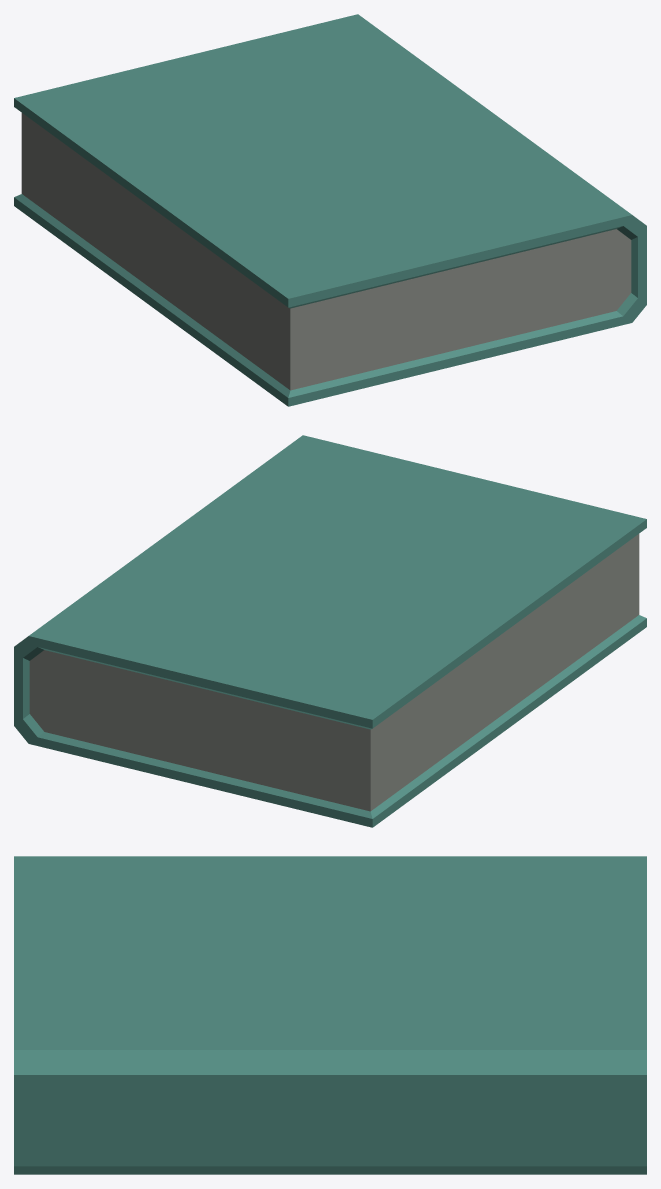
File: Book.001.fbx
3 renders of one model, top to bottom at view 1: azimuth 30°, elevation 25°; view 2: azimuth 150°, elevation 25°; view 3: azimuth 270°, elevation 25°, orthographic. The views are drawn at different scales.
Parts seen in each view (by area): view 1: Book.001; view 2: Book.001; view 3: Book.001.
Boxes of the visible parts, x1,y1,x2,y2 form: Book.001: (14, 14, 646, 406); Book.001: (14, 435, 646, 827); Book.001: (14, 856, 646, 1174).
Size of the model in its own units: 26.71 by 7.68 by 35.39.
